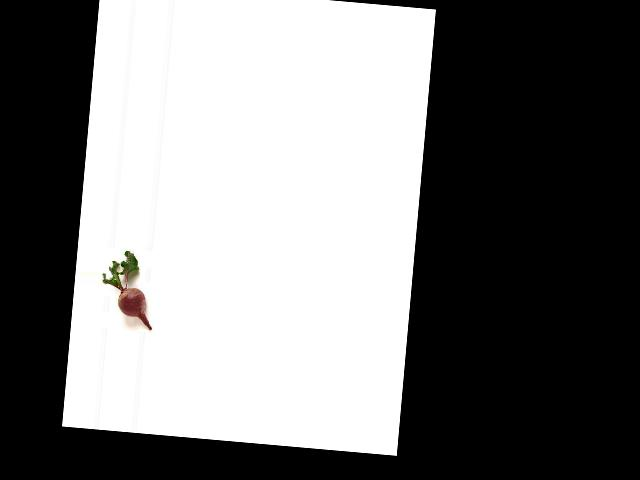beet: (98, 248, 158, 329)
